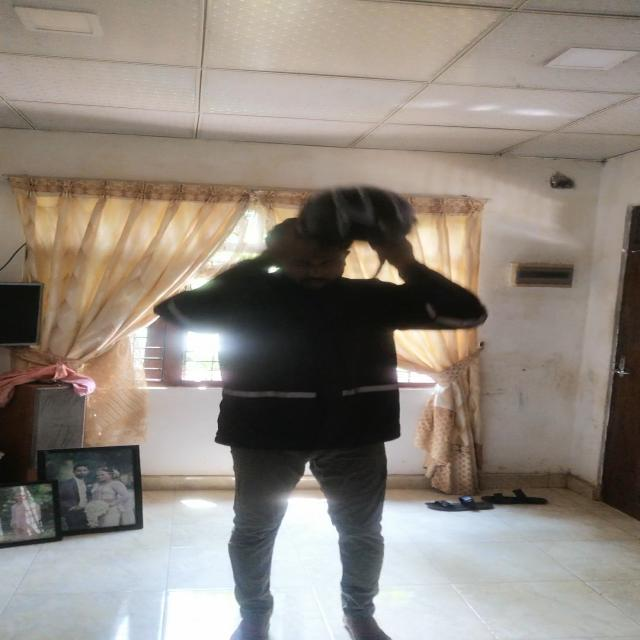Jacket_Wearer: (154, 256, 487, 461)
Person: (154, 216, 493, 640)
